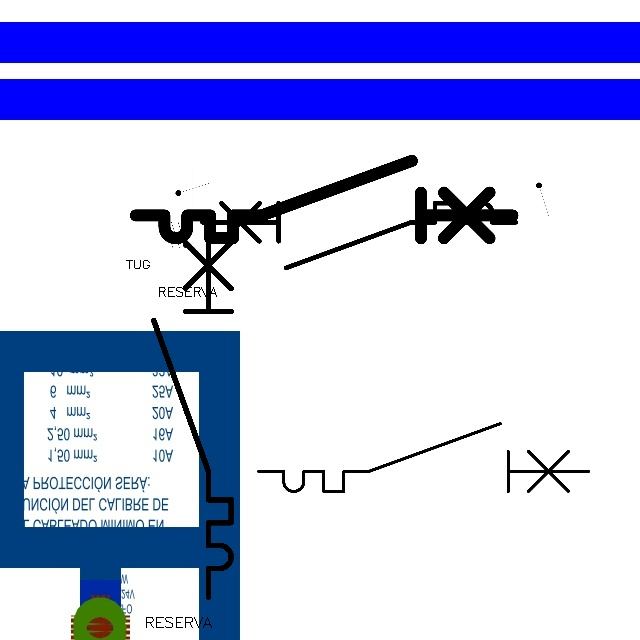interruptor_termomagnetico: (144, 209, 241, 606), (126, 151, 522, 248), (250, 415, 597, 500), (194, 195, 524, 276)
